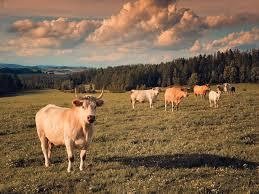cow: (35, 87, 104, 173), (129, 87, 164, 108), (164, 86, 191, 110), (208, 87, 222, 108), (193, 84, 211, 99), (222, 82, 230, 93), (229, 86, 237, 93)
